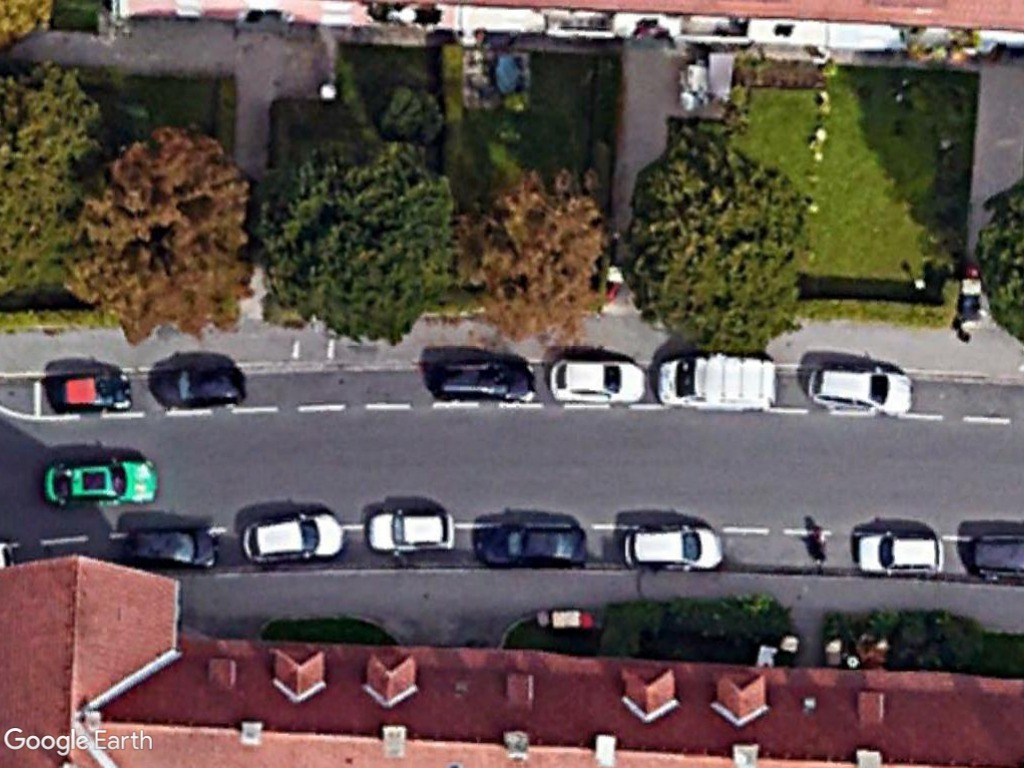car: (40, 456, 164, 512), (803, 361, 918, 418), (238, 509, 352, 566), (479, 522, 593, 573), (430, 356, 541, 407), (118, 520, 225, 570), (619, 523, 728, 572), (546, 356, 650, 407), (852, 526, 950, 579), (364, 506, 461, 558), (150, 366, 252, 413), (50, 372, 135, 416)
van: (655, 354, 781, 414)
